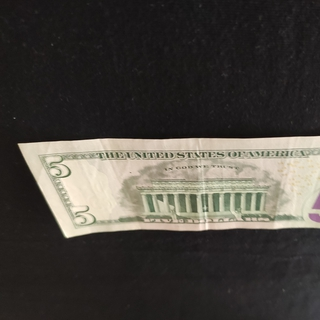5USDBack: (17, 134, 320, 238)
